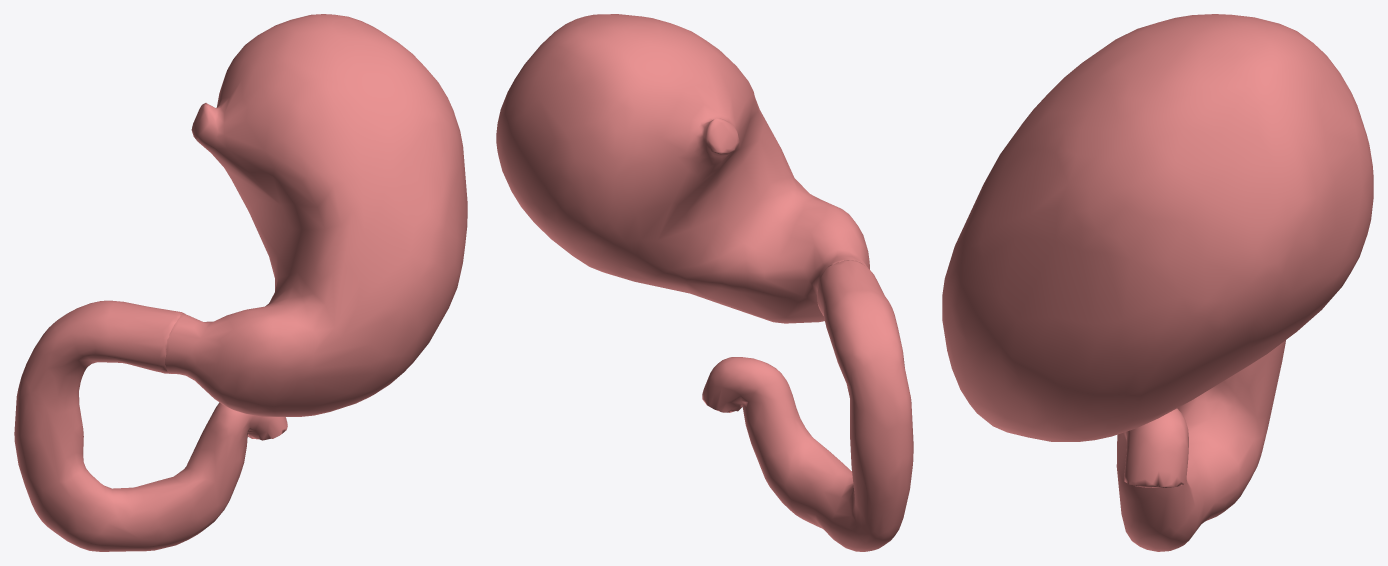
File: Estomago.fbx
3 renders of one model, left to right at view 1: azimuth 30°, elevation 25°; view 2: azimuth 150°, elevation 25°; view 3: azimuth 270°, elevation 25°, orthographic. The views are drawn at different scales.
Parts seen in each view (by area): view 1: Estomago; view 2: Estomago; view 3: Estomago.
Boxes of the visible parts, x1,y1,x2,y2 form: Estomago: [14, 14, 467, 551]; Estomago: [496, 14, 913, 551]; Estomago: [942, 14, 1373, 551].
Bounding box in the file's own units: 17.11 × 18.44 × 11.29.
